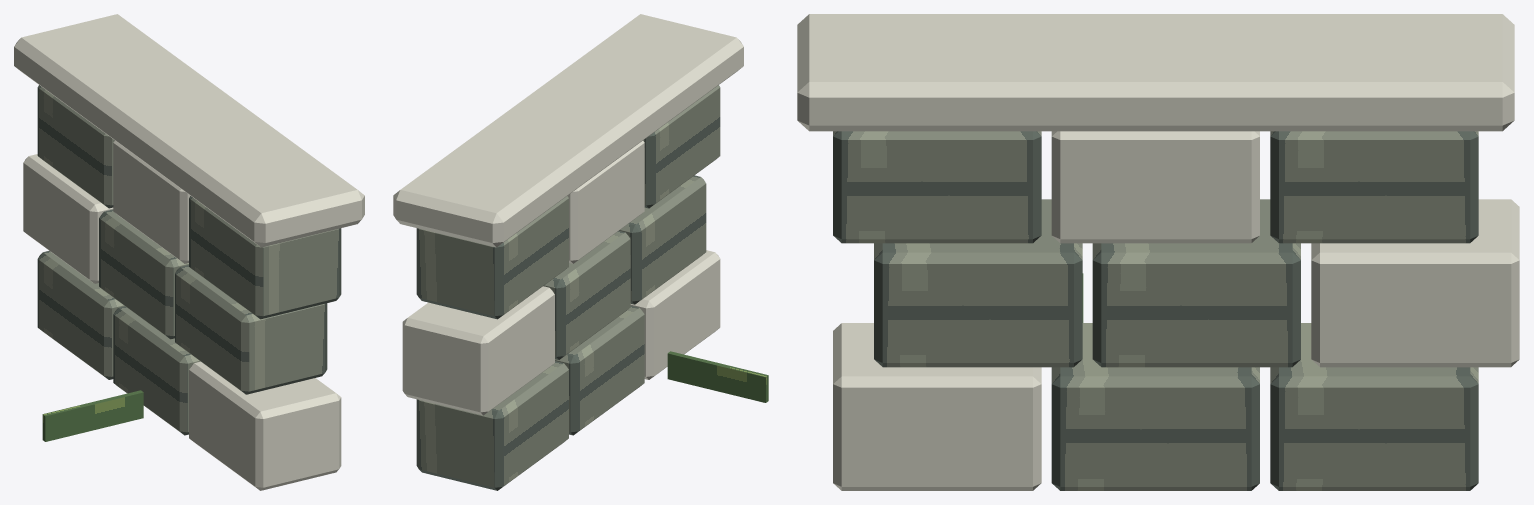
Rendered from wall_vertical.glb.
3 views of the same model, side by side, from view 1: azimuth 30°, elevation 25°; view 2: azimuth 150°, elevation 25°; view 3: azimuth 270°, elevation 25° (orthographic). The views are drawn at different scales.
Parts seen in each view (by area): view 1: Coping.001, Wall_stone.009, Wall_stone.012, Wall_stone.015, Wall_stone.011, Wall_stone.014, Wall_stone.013, Wall_stone.010, Wall_stone.017, Wall_stone.016, Moss.001; view 2: Coping.001, Wall_stone.014, Wall_stone.011, Wall_stone.017, Wall_stone.012, Wall_stone.010, Wall_stone.013, Wall_stone.009, Wall_stone.015, Wall_stone.016, Moss.001; view 3: Coping.001, Wall_stone.014, Wall_stone.009, Wall_stone.013, Wall_stone.012, Wall_stone.011, Wall_stone.010, Wall_stone.015, Wall_stone.017, Wall_stone.016.
Boxes of the visible parts, left/top/right/bottom form: Coping.001: left=14, top=14, right=364, bottom=247; Wall_stone.009: left=189, top=361, right=341, bottom=490; Wall_stone.012: left=175, top=265, right=327, bottom=394; Wall_stone.015: left=189, top=196, right=341, bottom=319; Wall_stone.011: left=37, top=250, right=124, bottom=379; Wall_stone.014: left=23, top=154, right=113, bottom=283; Wall_stone.013: left=99, top=209, right=188, bottom=339; Wall_stone.010: left=113, top=306, right=200, bottom=435; Wall_stone.017: left=37, top=85, right=114, bottom=208; Wall_stone.016: left=113, top=140, right=190, bottom=263; Moss.001: left=42, top=390, right=143, bottom=441; Coping.001: left=393, top=14, right=743, bottom=247; Wall_stone.014: left=402, top=286, right=554, bottom=415; Wall_stone.011: left=416, top=361, right=568, bottom=490; Wall_stone.017: left=416, top=196, right=568, bottom=319; Wall_stone.012: left=619, top=175, right=706, bottom=304; Wall_stone.010: left=555, top=305, right=644, bottom=435; Wall_stone.013: left=543, top=231, right=630, bottom=359; Wall_stone.009: left=630, top=250, right=720, bottom=379; Wall_stone.015: left=643, top=85, right=720, bottom=208; Wall_stone.016: left=568, top=140, right=644, bottom=263; Moss.001: left=667, top=351, right=768, bottom=402; Coping.001: left=797, top=14, right=1514, bottom=131; Wall_stone.014: left=1311, top=199, right=1519, bottom=367; Wall_stone.009: left=833, top=323, right=1041, bottom=490; Wall_stone.013: left=1092, top=199, right=1300, bottom=367; Wall_stone.012: left=874, top=199, right=1082, bottom=367; Wall_stone.011: left=1270, top=323, right=1478, bottom=490; Wall_stone.010: left=1051, top=323, right=1259, bottom=490; Wall_stone.015: left=833, top=131, right=1041, bottom=243; Wall_stone.017: left=1270, top=131, right=1478, bottom=243; Wall_stone.016: left=1051, top=131, right=1259, bottom=243.
Bounding box in the file's own units: 1.11 × 1.34 × 2.11.
Materials: 3 (2 with a texture image).
